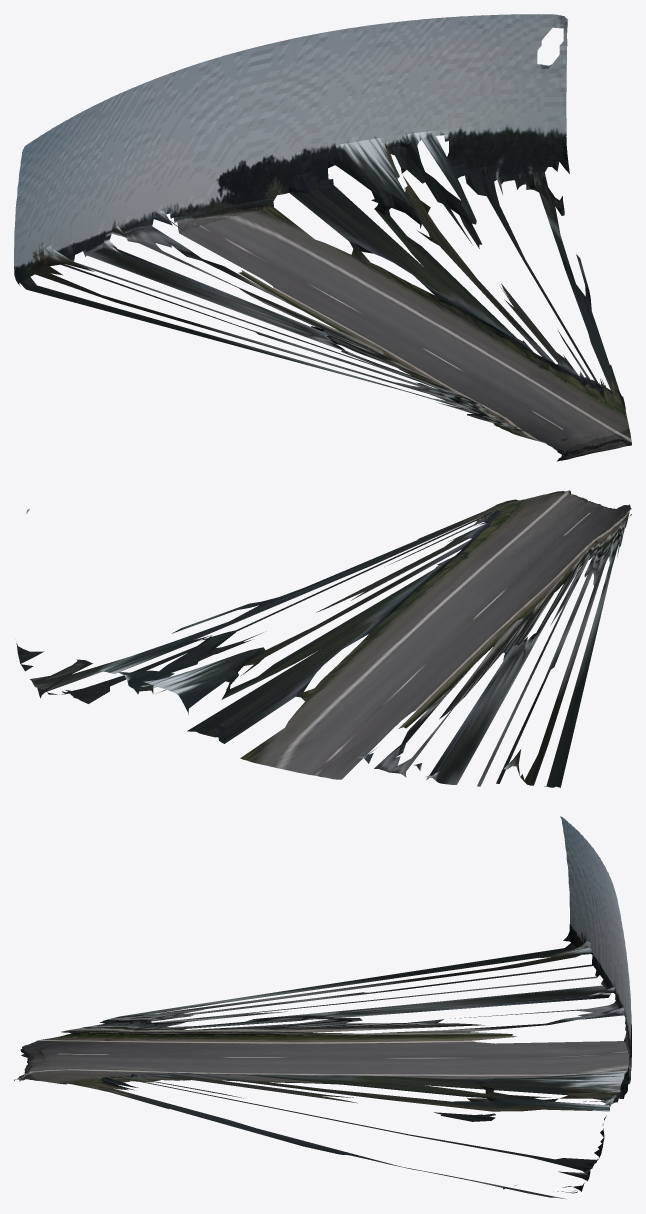
3 renders of one model, top to bottom at view 1: azimuth 30°, elevation 25°; view 2: azimuth 150°, elevation 25°; view 3: azimuth 270°, elevation 25°, orthographic. The views are drawn at different scales.
Visible parts, largest first — view 1: defaultobject; view 2: defaultobject; view 3: defaultobject.
Boxes of the visible parts, bbox=[...] form: defaultobject: bbox=[14, 14, 631, 461]; defaultobject: bbox=[16, 490, 631, 787]; defaultobject: bbox=[14, 816, 631, 1199].
Size of the model in its own units: 41.16 by 13.3 by 44.54.
1 material, 1 textured.
